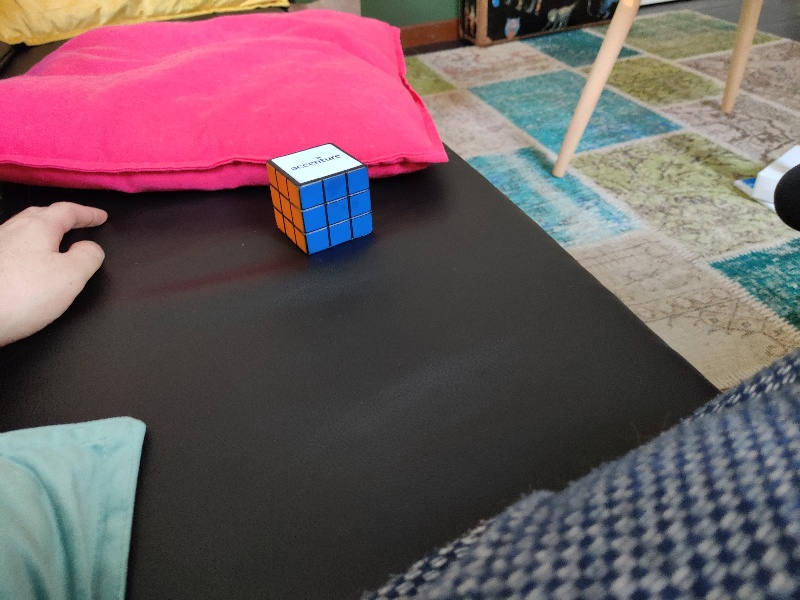rubik: (266, 143, 374, 254)
